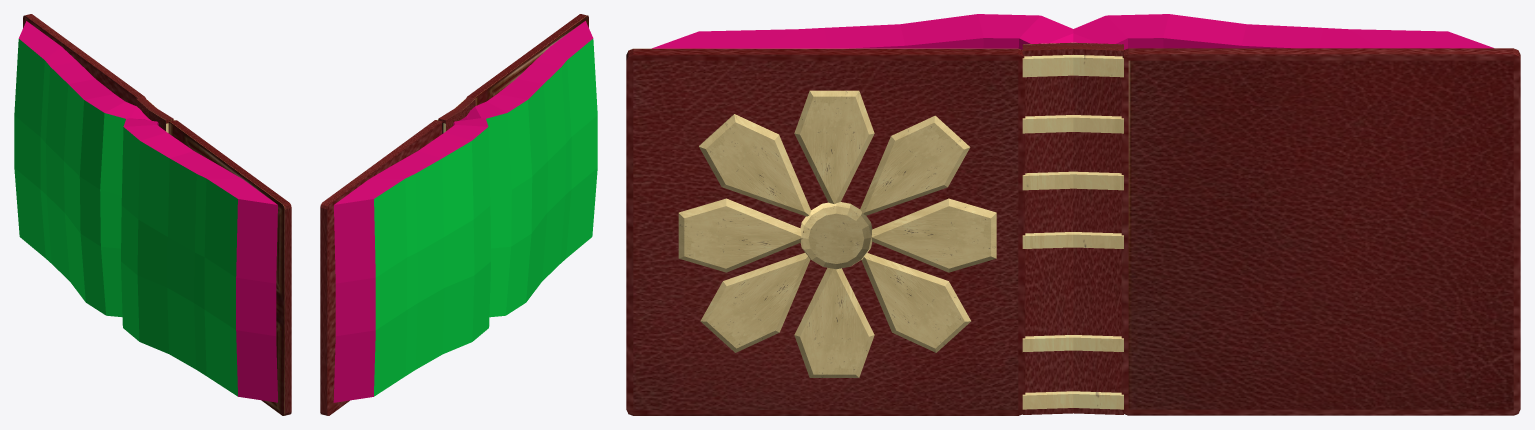
File: book opendims2.0.fbx
3 renders of one model, left to right at view 1: azimuth 30°, elevation 25°; view 2: azimuth 150°, elevation 25°; view 3: azimuth 270°, elevation 25°, orthographic. The views are drawn at different scales.
Parts seen in each view (by area): view 1: book; view 2: book; view 3: book, Cube.004, Cube.001, Cube.005, Cube.002, Cube.006, Cube.008, Cube.003, Cube.007, Cube.009.
Boxes of the visible parts, x1,y1,x2,y2 form: book: (14, 14, 291, 415); book: (320, 14, 597, 415); book: (626, 14, 1520, 415); Cube.004: (699, 114, 811, 216); Cube.001: (871, 198, 996, 272); Cube.005: (678, 198, 801, 272); Cube.002: (860, 115, 970, 215); Cube.006: (700, 253, 810, 352); Cube.008: (861, 253, 971, 352); Cube.003: (794, 90, 874, 203); Cube.007: (794, 267, 874, 377); Cube.009: (800, 202, 872, 269).
Bounding box in the file's own units: 26.49 × 95.64 × 213.
